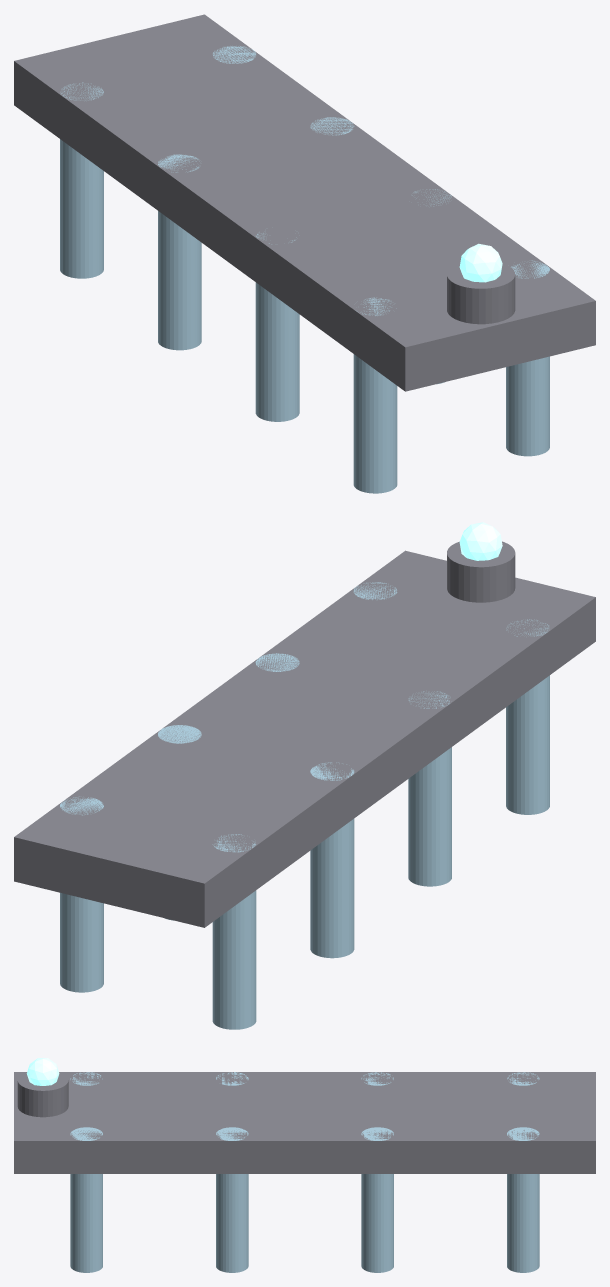
Rendered from structure_boreal_coastal_pier.glb.
The picture shows the model from 3 angles, top to bottom: view 1: azimuth 30°, elevation 25°; view 2: azimuth 150°, elevation 25°; view 3: azimuth 270°, elevation 25°; orthographic projection. The views are drawn at different scales.
Visible parts, largest first — view 1: Boreal_Pier_Deck, Ice_Stilt_-1.8_2.0, Ice_Stilt_-1.8_-6.0, Ice_Stilt_-1.8_6.0, Ice_Stilt_-1.8_-2.0, Ice_Stilt_1.8_-6.0, Navigation_Brazier_Stand, Boreal_Soul_Flame; view 2: Boreal_Pier_Deck, Ice_Stilt_-1.8_2.0, Ice_Stilt_-1.8_6.0, Ice_Stilt_-1.8_-2.0, Ice_Stilt_-1.8_-6.0, Ice_Stilt_1.8_6.0, Navigation_Brazier_Stand, Boreal_Soul_Flame, Ice_Stilt_1.8_2.0; view 3: Boreal_Pier_Deck, Ice_Stilt_1.8_-6.0, Ice_Stilt_1.8_6.0, Ice_Stilt_1.8_-2.0, Ice_Stilt_1.8_2.0, Navigation_Brazier_Stand, Boreal_Soul_Flame.
Part boxes in pixels (box(x1,y1,x2,y2)): Boreal_Pier_Deck: box(14, 14, 595, 391); Ice_Stilt_-1.8_2.0: box(158, 154, 201, 350); Ice_Stilt_-1.8_-6.0: box(353, 297, 397, 493); Ice_Stilt_-1.8_6.0: box(60, 82, 103, 278); Ice_Stilt_-1.8_-2.0: box(255, 232, 299, 421); Ice_Stilt_1.8_-6.0: box(506, 260, 549, 456); Navigation_Brazier_Stand: box(447, 263, 515, 324); Boreal_Soul_Flame: box(459, 243, 502, 282); Boreal_Pier_Deck: box(14, 550, 595, 927); Ice_Stilt_-1.8_2.0: box(310, 762, 354, 958); Ice_Stilt_-1.8_6.0: box(212, 834, 256, 1029); Ice_Stilt_-1.8_-2.0: box(408, 691, 451, 886); Ice_Stilt_-1.8_-6.0: box(506, 619, 549, 814); Ice_Stilt_1.8_6.0: box(60, 796, 103, 992); Navigation_Brazier_Stand: box(447, 541, 515, 602); Boreal_Soul_Flame: box(459, 522, 502, 560); Ice_Stilt_1.8_2.0: box(158, 725, 201, 920); Boreal_Pier_Deck: box(14, 1072, 595, 1173); Ice_Stilt_1.8_-6.0: box(70, 1127, 102, 1272); Ice_Stilt_1.8_6.0: box(507, 1127, 539, 1272); Ice_Stilt_1.8_-2.0: box(216, 1127, 248, 1272); Ice_Stilt_1.8_2.0: box(361, 1127, 393, 1272); Navigation_Brazier_Stand: box(17, 1072, 68, 1117); Boreal_Soul_Flame: box(26, 1058, 59, 1085).
Size of the model in its own units: 4.5 by 5.45 by 16.
